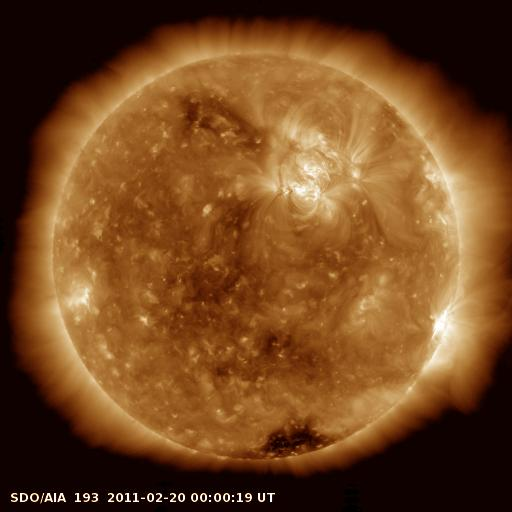coronal_hole: (233, 415, 346, 464)
